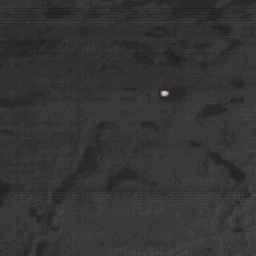Target: (160, 91, 169, 97)
